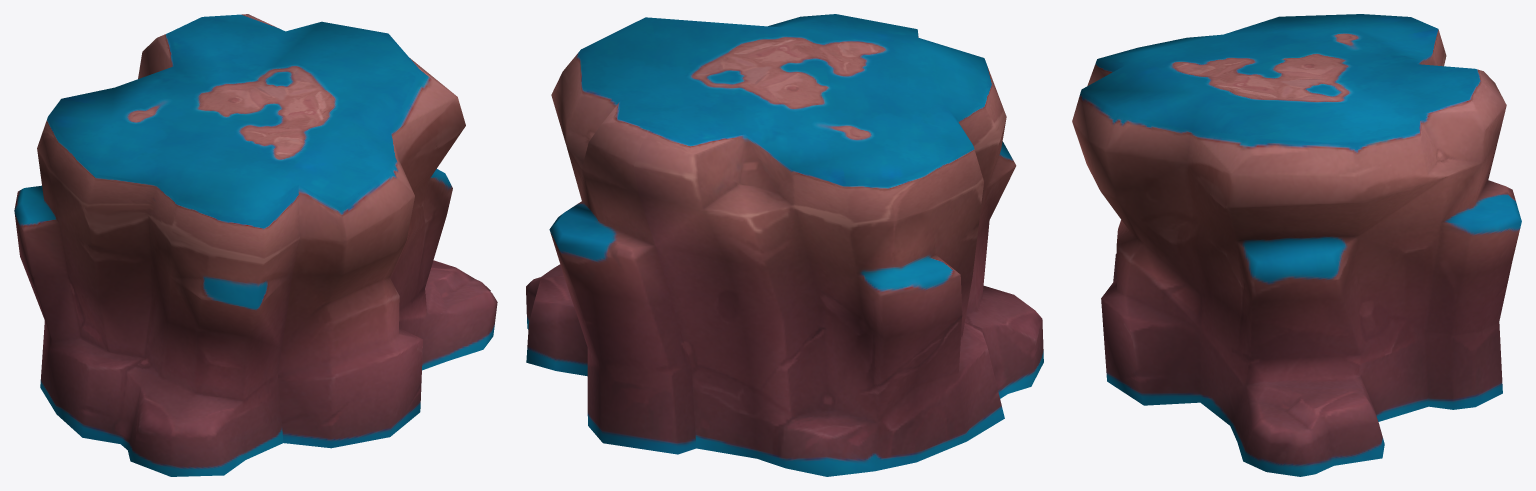
Rendered from nameikexing_shitou03.FBX.
3 renders of one model, left to right at view 1: azimuth 30°, elevation 25°; view 2: azimuth 150°, elevation 25°; view 3: azimuth 270°, elevation 25°, orthographic. The views are drawn at different scales.
Parts seen in each view (by area): view 1: nameikexing_shitou03; view 2: nameikexing_shitou03; view 3: nameikexing_shitou03.
Part boxes in pixels (box(x1,y1,x2,y2)): nameikexing_shitou03: box(14, 14, 497, 476); nameikexing_shitou03: box(526, 14, 1043, 476); nameikexing_shitou03: box(1072, 14, 1521, 476).
Bounding box in the file's own units: 2433 × 1550 × 2122.
